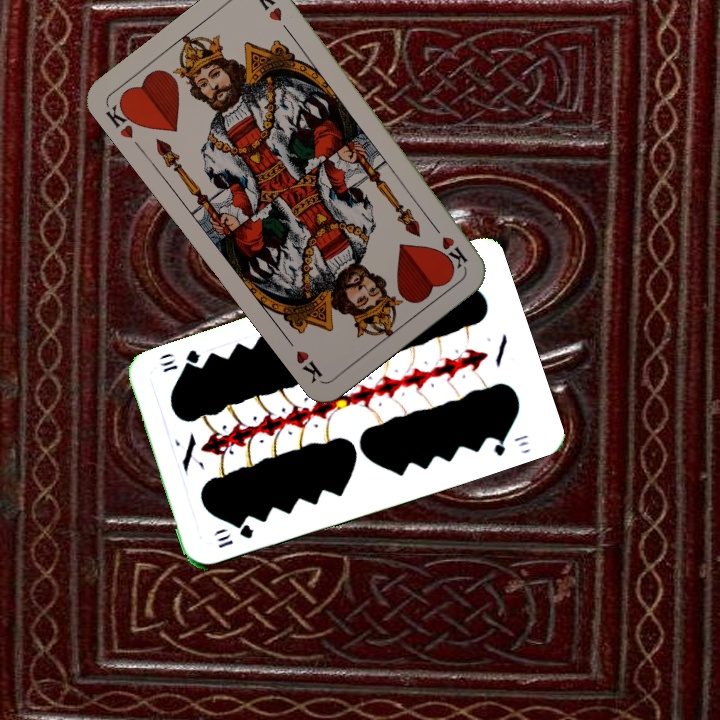G10: (214, 520, 256, 551)
HK: (427, 218, 471, 272), (101, 95, 142, 141)
